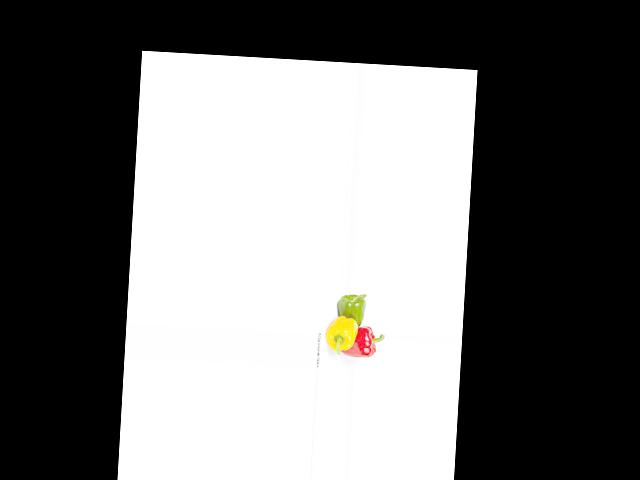bell_pepper: (343, 324, 384, 361)
